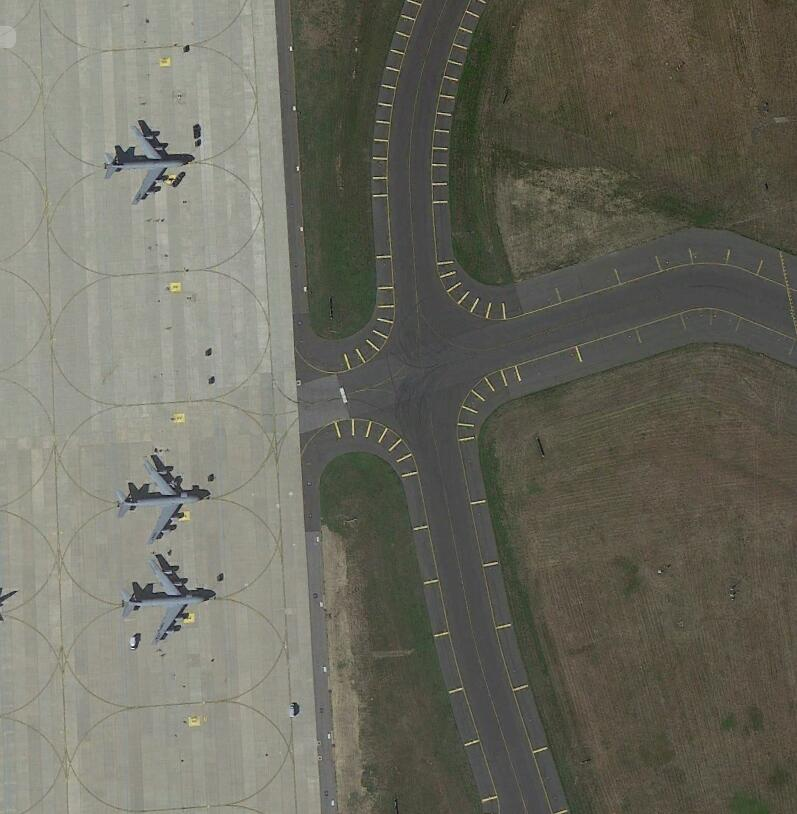A14: (115, 446, 215, 543), (116, 550, 216, 647), (103, 125, 196, 210)
